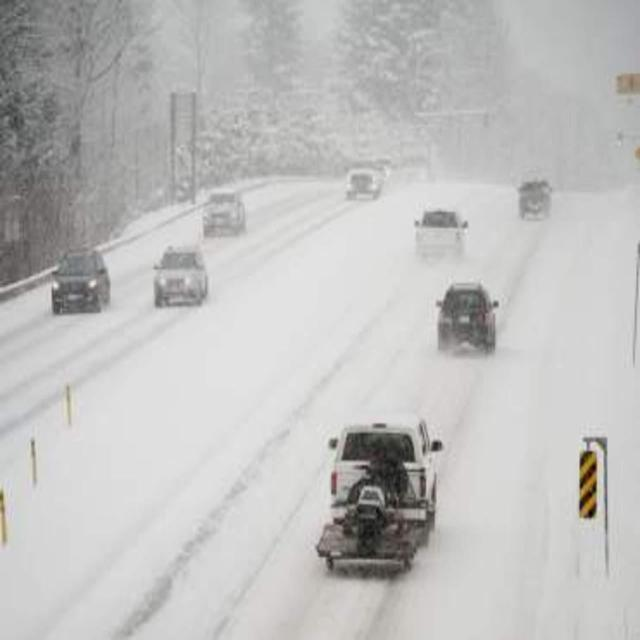Car: (313, 386, 456, 520), (433, 257, 502, 359), (49, 227, 110, 317), (150, 233, 208, 309), (409, 204, 471, 267), (196, 170, 248, 242), (338, 136, 383, 213), (514, 157, 558, 226)
